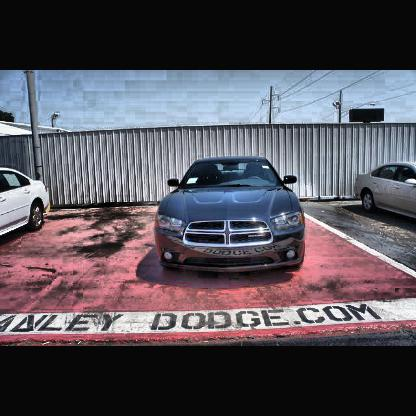Dodge Charger Sedan 2012: (155, 156, 308, 276)
